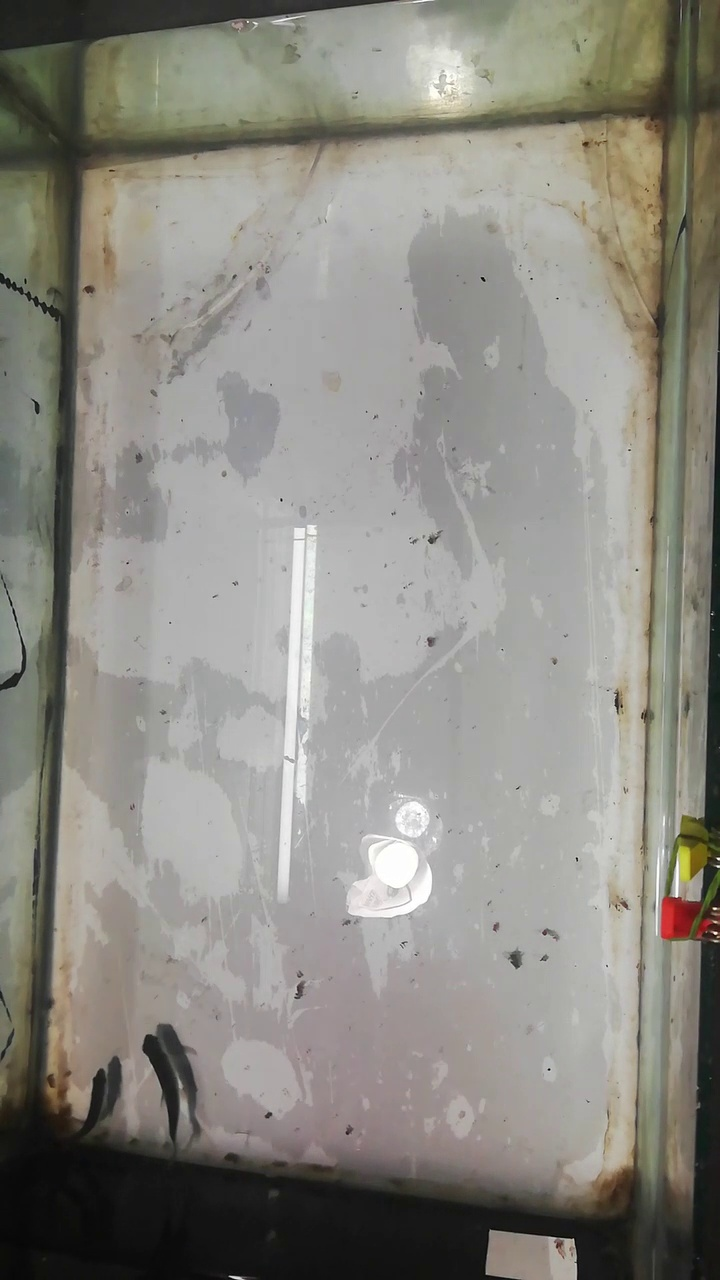fish1: (142, 1026, 189, 1151)
fish2: (81, 1066, 110, 1138)
